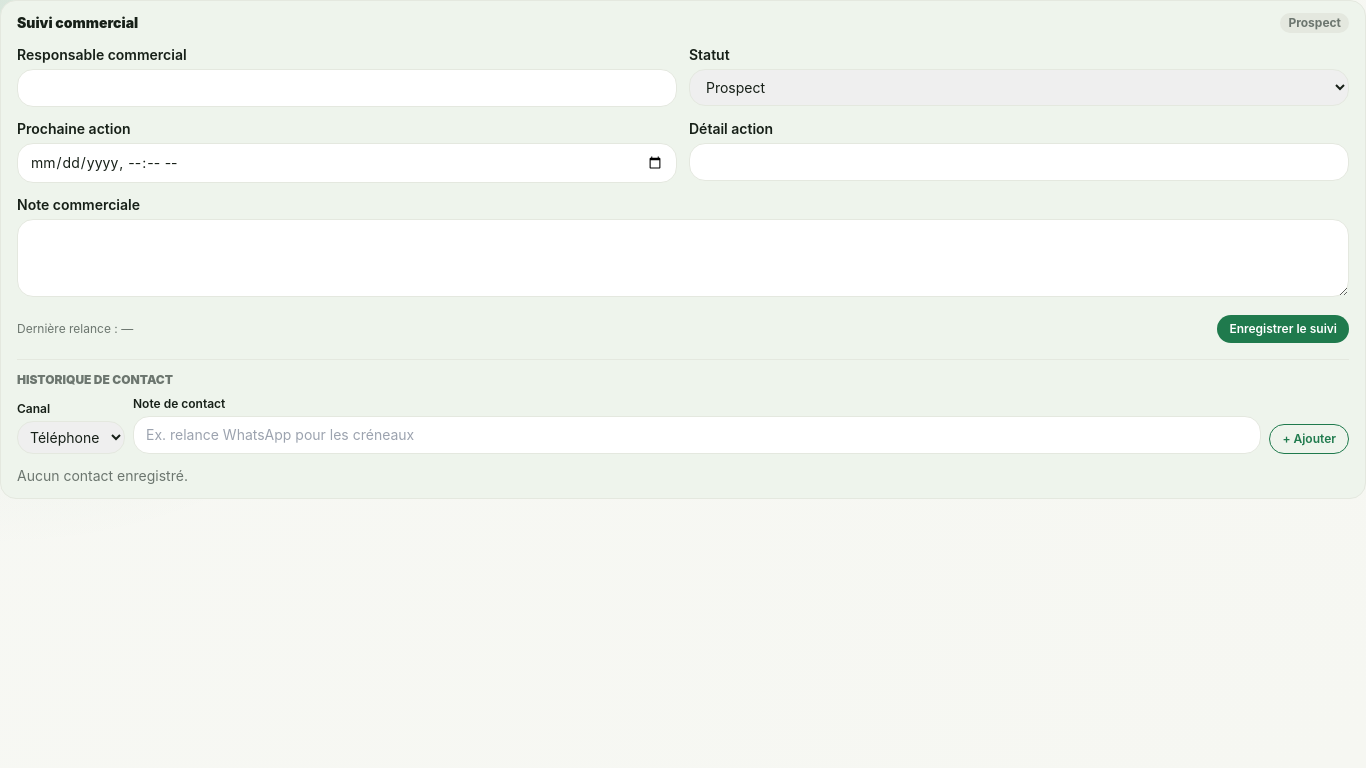
MerchantCrmSection › ne notifie pas le parent quand la mutation échoue
The image size is (1366, 768).
Click the button "Enregistrer le suivi" at x=1283, y=329, box top-left (1217, 315), bottom-right (1349, 343)
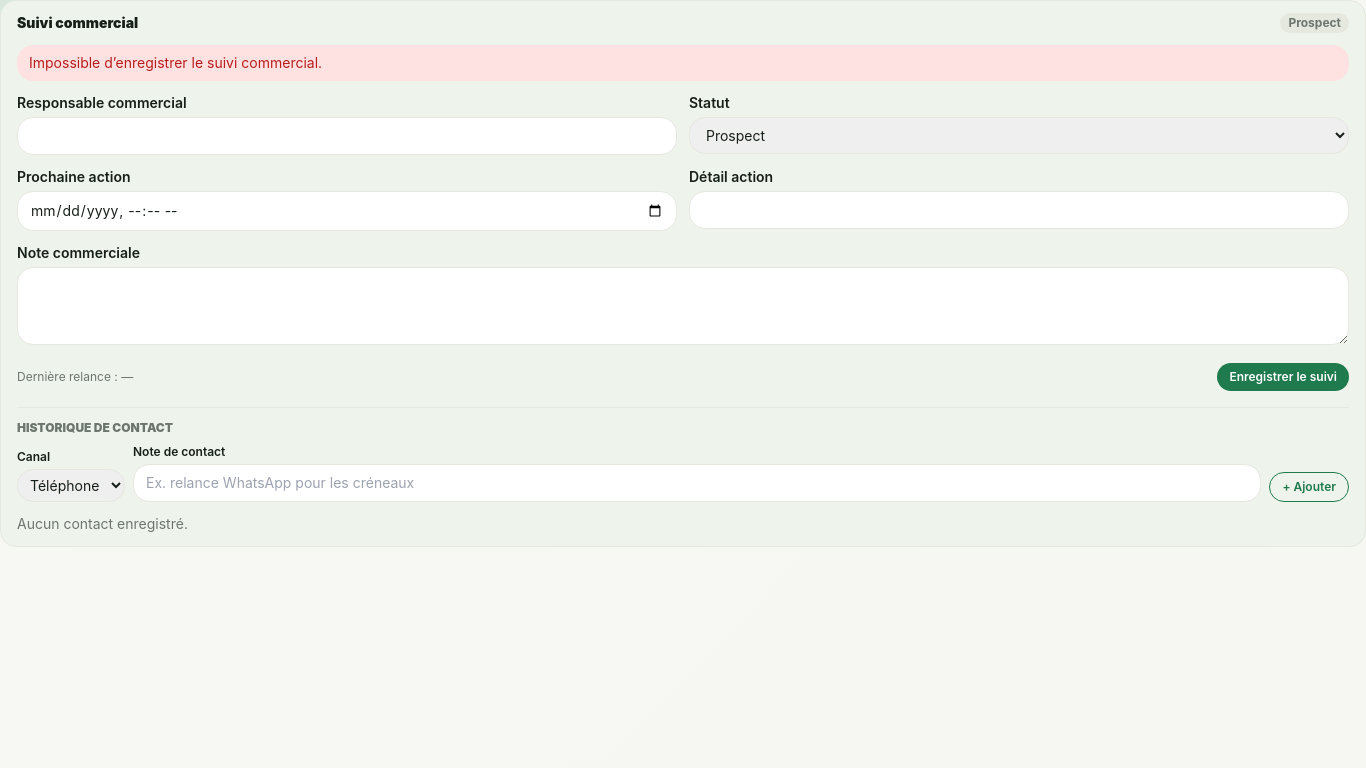
Expected: the text "Impossible d’enregistrer le suivi commercial." is shown, top-left (17, 45), bottom-right (1349, 81)
